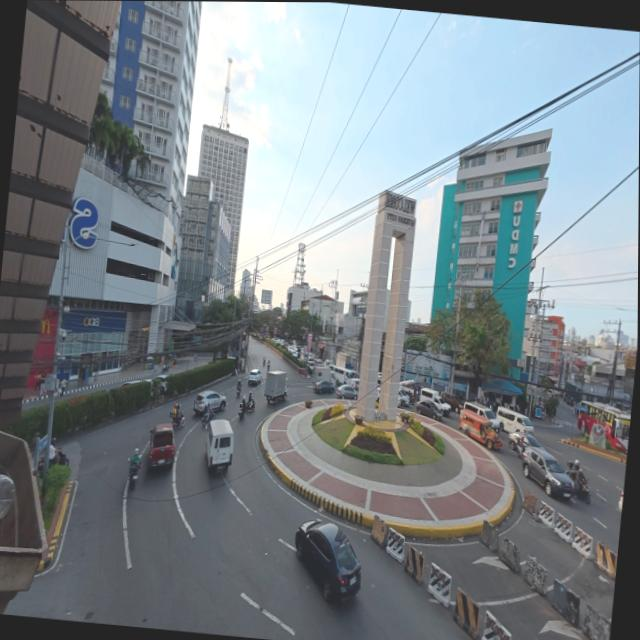Jeepneys: (459, 409, 501, 449)
bus: (577, 401, 630, 453)
car: (294, 519, 360, 600), (522, 436, 571, 498), (147, 423, 174, 467), (463, 402, 499, 430), (193, 391, 225, 414), (415, 400, 442, 420), (440, 392, 462, 413), (336, 386, 356, 400), (313, 380, 334, 393), (120, 379, 151, 387), (247, 369, 261, 385), (154, 374, 167, 391), (398, 390, 408, 407), (618, 491, 622, 511), (323, 359, 329, 365), (377, 373, 380, 384)
motorcycle: (566, 461, 589, 504), (508, 432, 527, 458), (127, 459, 141, 487), (49, 448, 68, 466), (171, 403, 184, 428), (201, 412, 214, 428), (246, 395, 254, 411), (238, 403, 245, 419), (160, 362, 168, 372), (235, 385, 240, 398), (261, 357, 264, 366), (266, 361, 269, 370)
trucks: (264, 371, 287, 404), (334, 352, 351, 369), (312, 366, 329, 382)
vans: (205, 420, 232, 470), (463, 402, 499, 429), (496, 408, 532, 434), (419, 388, 450, 416), (329, 364, 358, 385), (312, 366, 330, 382), (345, 371, 358, 386), (349, 378, 359, 391)
